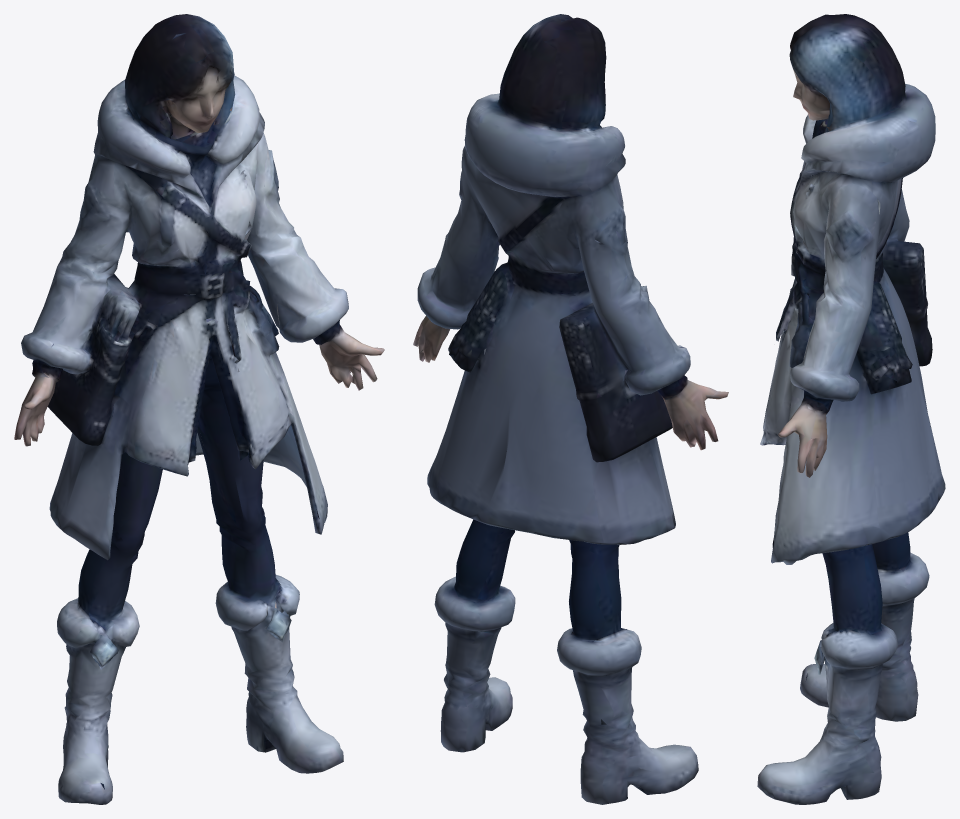
The model's file is outfit_hunter_t1_f.glb.
The picture shows the model from 3 angles, left to right: view 1: azimuth 30°, elevation 25°; view 2: azimuth 150°, elevation 25°; view 3: azimuth 270°, elevation 25°; orthographic projection. The views are drawn at different scales.
Parts seen in each view (by area): view 1: outfit_hunter_t1_f; view 2: outfit_hunter_t1_f; view 3: outfit_hunter_t1_f.
Boxes of the visible parts, bbox=[...] form: outfit_hunter_t1_f: bbox=[14, 14, 384, 804]; outfit_hunter_t1_f: bbox=[413, 14, 728, 804]; outfit_hunter_t1_f: bbox=[757, 14, 945, 804].
Bounding box in the file's own units: 0.8679 × 1.85 × 0.433.
1 material, 1 textured.
